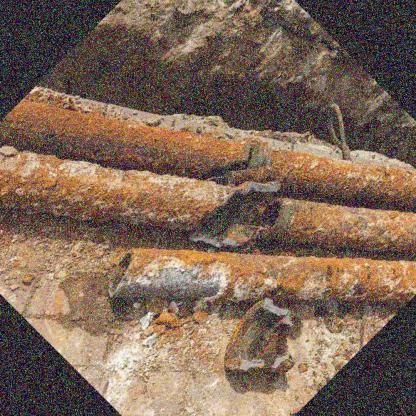burst: (212, 177, 291, 252)
